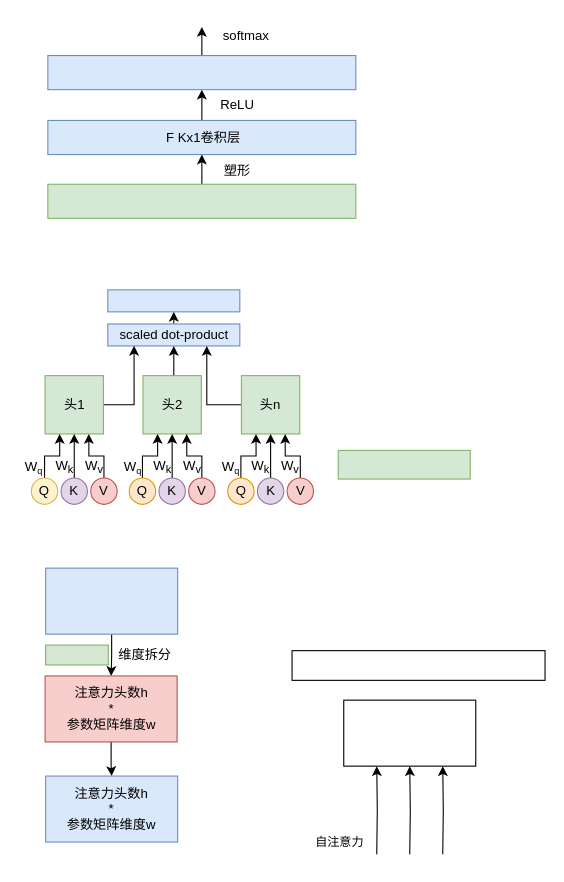
Image size: 564x882. Some labels were removed from this diagram. Here are the shapes that lost their labels. From the top down, the box of each, then its label:
(47, 54, 356, 90): 1 1x1卷积层
(47, 183, 356, 218): 层归一化
(107, 289, 240, 312): Concat&MLP
(337, 449, 470, 479): Linear
(45, 567, 178, 634): 嵌入向量维度n
(45, 644, 108, 665): n = h * w
(291, 650, 545, 680): 命题1，命题2，......，命题n
(343, 699, 476, 766): 自注意力的加法注意力
